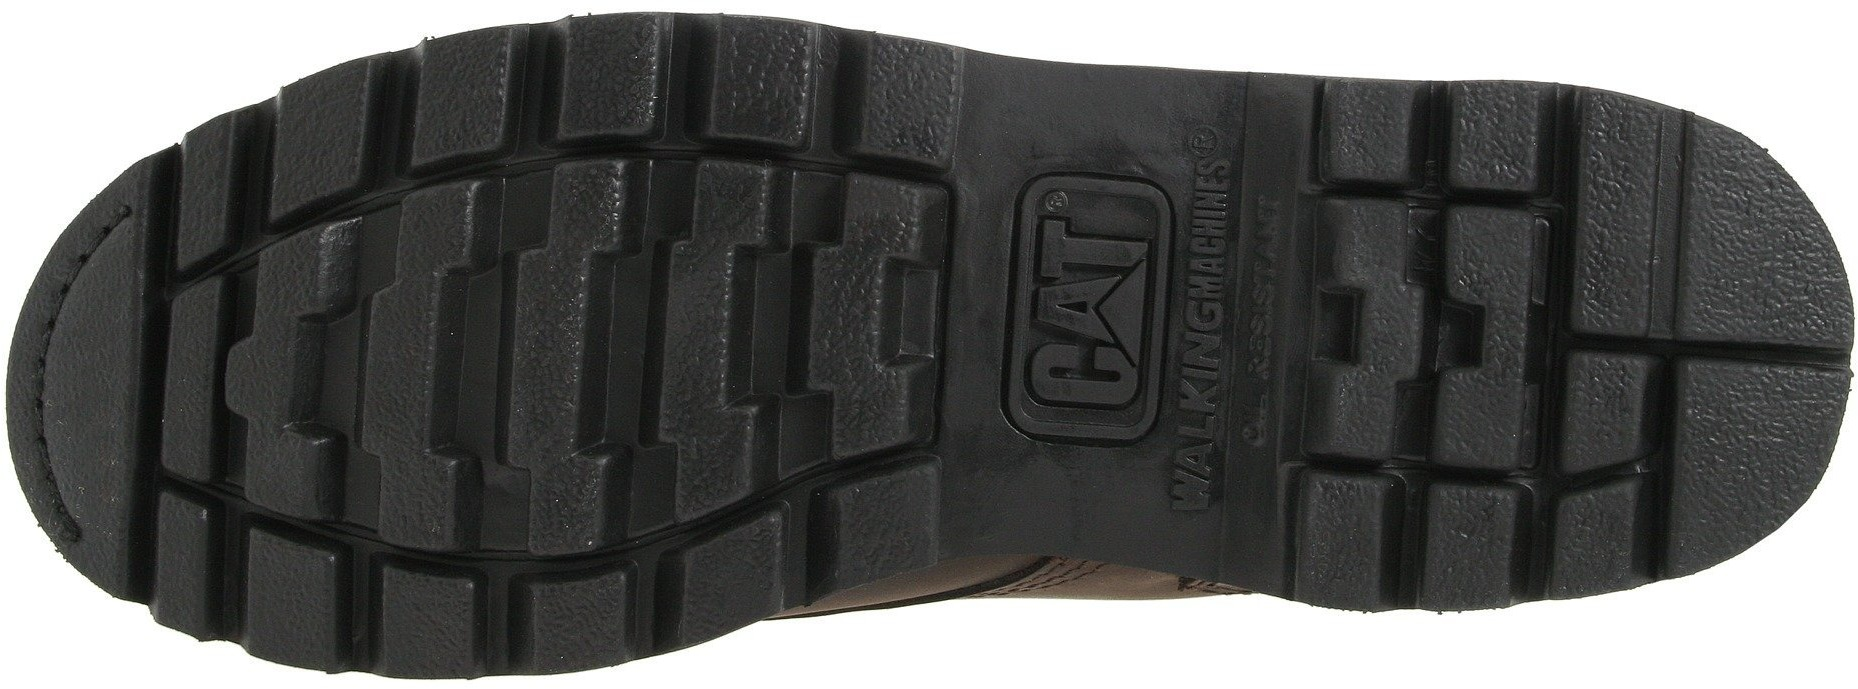quad: (664, 379, 930, 617), (1309, 361, 1537, 608), (374, 429, 600, 663), (421, 49, 653, 272), (1321, 77, 1546, 301), (185, 113, 410, 319), (705, 44, 920, 256), (145, 391, 341, 612)
text: (1013, 208, 1160, 365), (1146, 428, 1235, 513), (1168, 181, 1244, 263), (1171, 314, 1232, 379)
